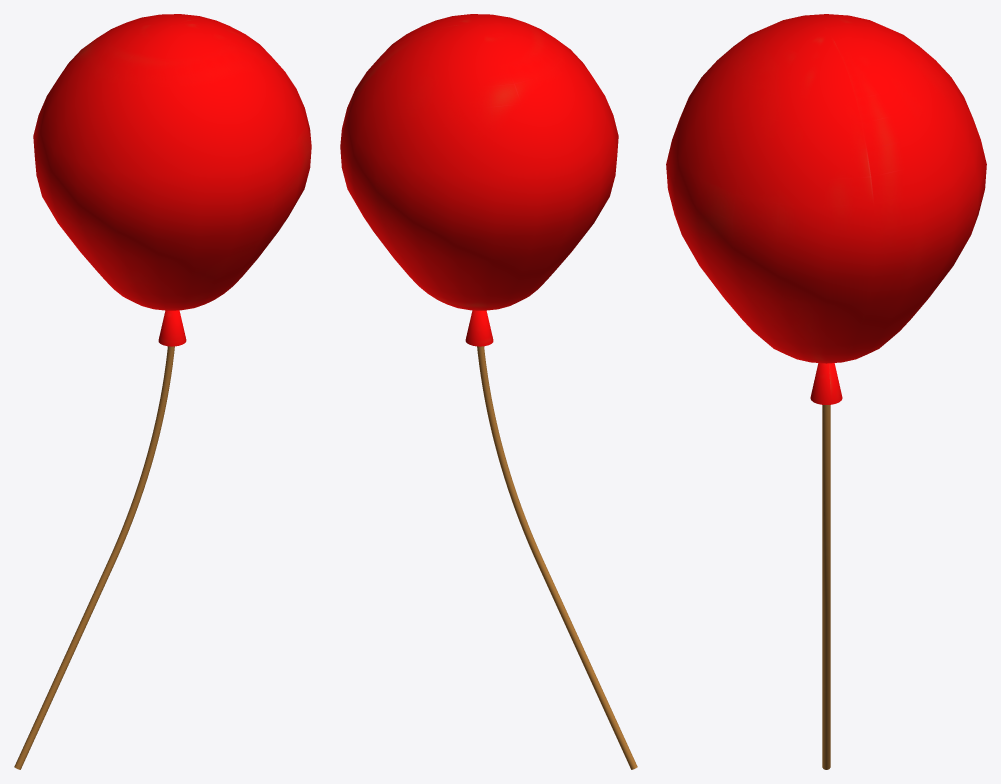
Rendered from BalloonRed.fbx.
The picture shows the model from 3 angles, left to right: view 1: azimuth 30°, elevation 25°; view 2: azimuth 150°, elevation 25°; view 3: azimuth 270°, elevation 25°; orthographic projection. The views are drawn at different scales.
Visible parts, largest first — view 1: pCylinder2; view 2: pCylinder2; view 3: pCylinder2.
Part boxes in pixels (x1,y1,x2,y2): pCylinder2: [14, 14, 311, 769]; pCylinder2: [340, 14, 637, 769]; pCylinder2: [666, 14, 986, 769].
Bounding box in the file's own units: 11.48 × 27.67 × 9.71.
Materials: 1 (1 with a texture image).
